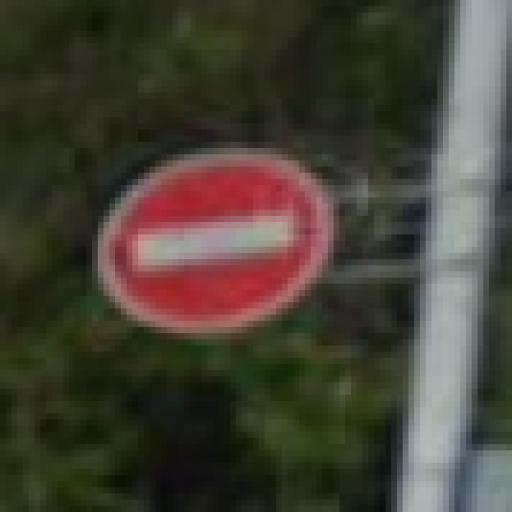traffic_sign: (93, 149, 335, 346)
